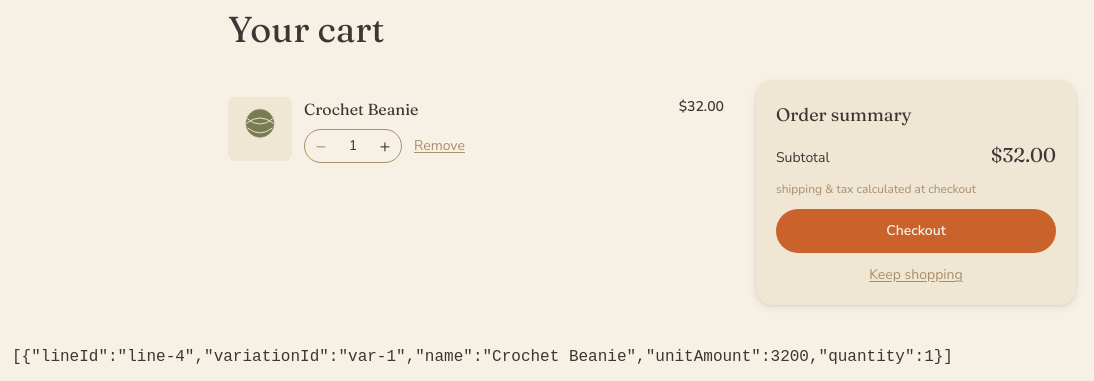
Scenario: /cart › the quantity stepper on the page updates the summary
Click the button named "increase quantity of crochet beanie": point(385, 146) top-left (369, 130), bottom-right (401, 162)
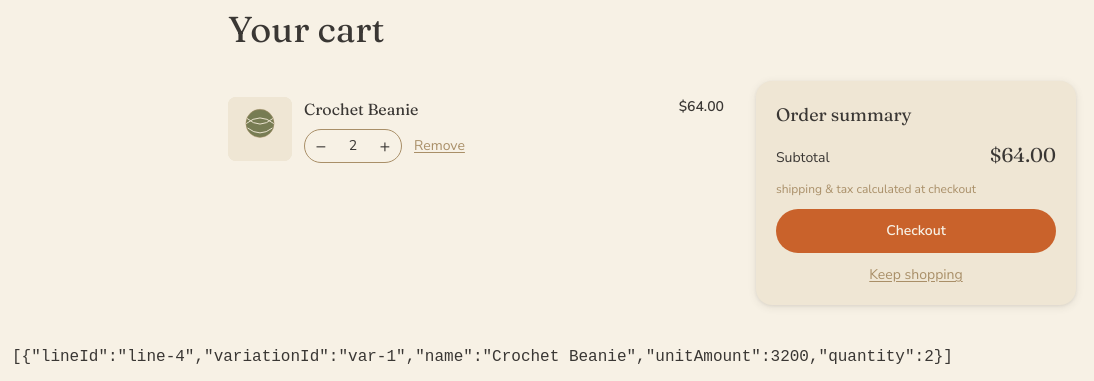
Expected: the text with test id "cart-subtotal" reads "$64.00", top-left (990, 142), bottom-right (1056, 167)
